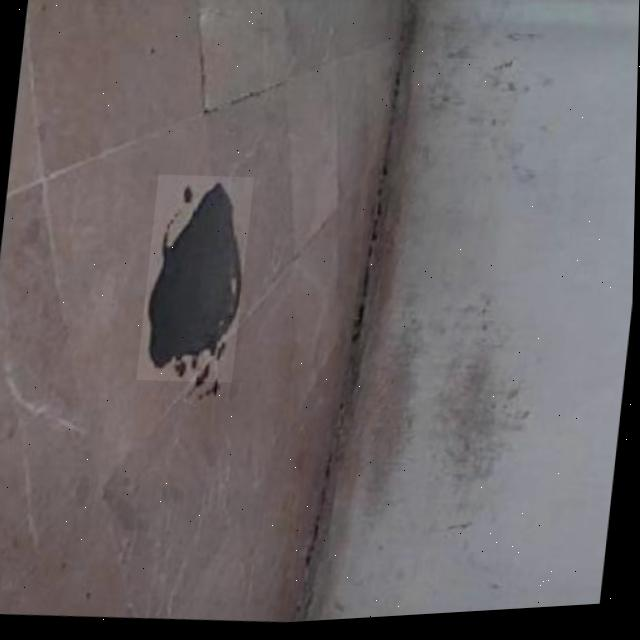spillage: (145, 180, 241, 382)
